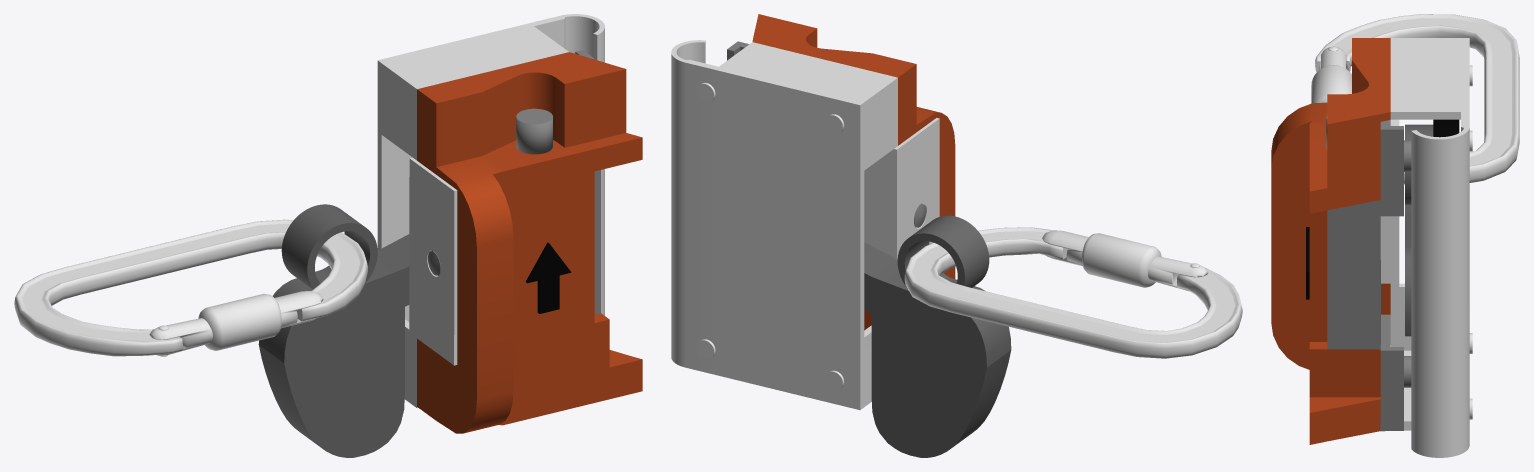
Rendered from LineaVidaRANA.fbx.
The picture shows the model from 3 angles, left to right: view 1: azimuth 30°, elevation 25°; view 2: azimuth 150°, elevation 25°; view 3: azimuth 270°, elevation 25°; orthographic projection. The views are drawn at different scales.
Parts seen in each view (by area): view 1: Rana, Leva, Mosquetón, Boton, Seguro; view 2: Rana, Leva, Mosquetón; view 3: Rana, Seguro, Mosquetón, Leva.
Part boxes in pixels (x1=…): Rana: x1=377, y1=14, x2=642, y2=433; Leva: x1=258, y1=204, x2=409, y2=457; Mosquetón: x1=14, y1=219, x2=367, y2=356; Boton: x1=516, y1=108, x2=552, y2=154; Seguro: x1=428, y1=50, x2=600, y2=314; Rana: x1=671, y1=14, x2=955, y2=409; Leva: x1=864, y1=215, x2=1011, y2=457; Mosquetón: x1=904, y1=227, x2=1242, y2=358; Rana: x1=1271, y1=38, x2=1472, y2=457; Seguro: x1=1327, y1=120, x2=1403, y2=431; Mosquetón: x1=1311, y1=14, x2=1519, y2=184; Leva: x1=1405, y1=124, x2=1433, y2=336.
Size of the model in its own units: 18.91 by 11.31 by 7.08.
